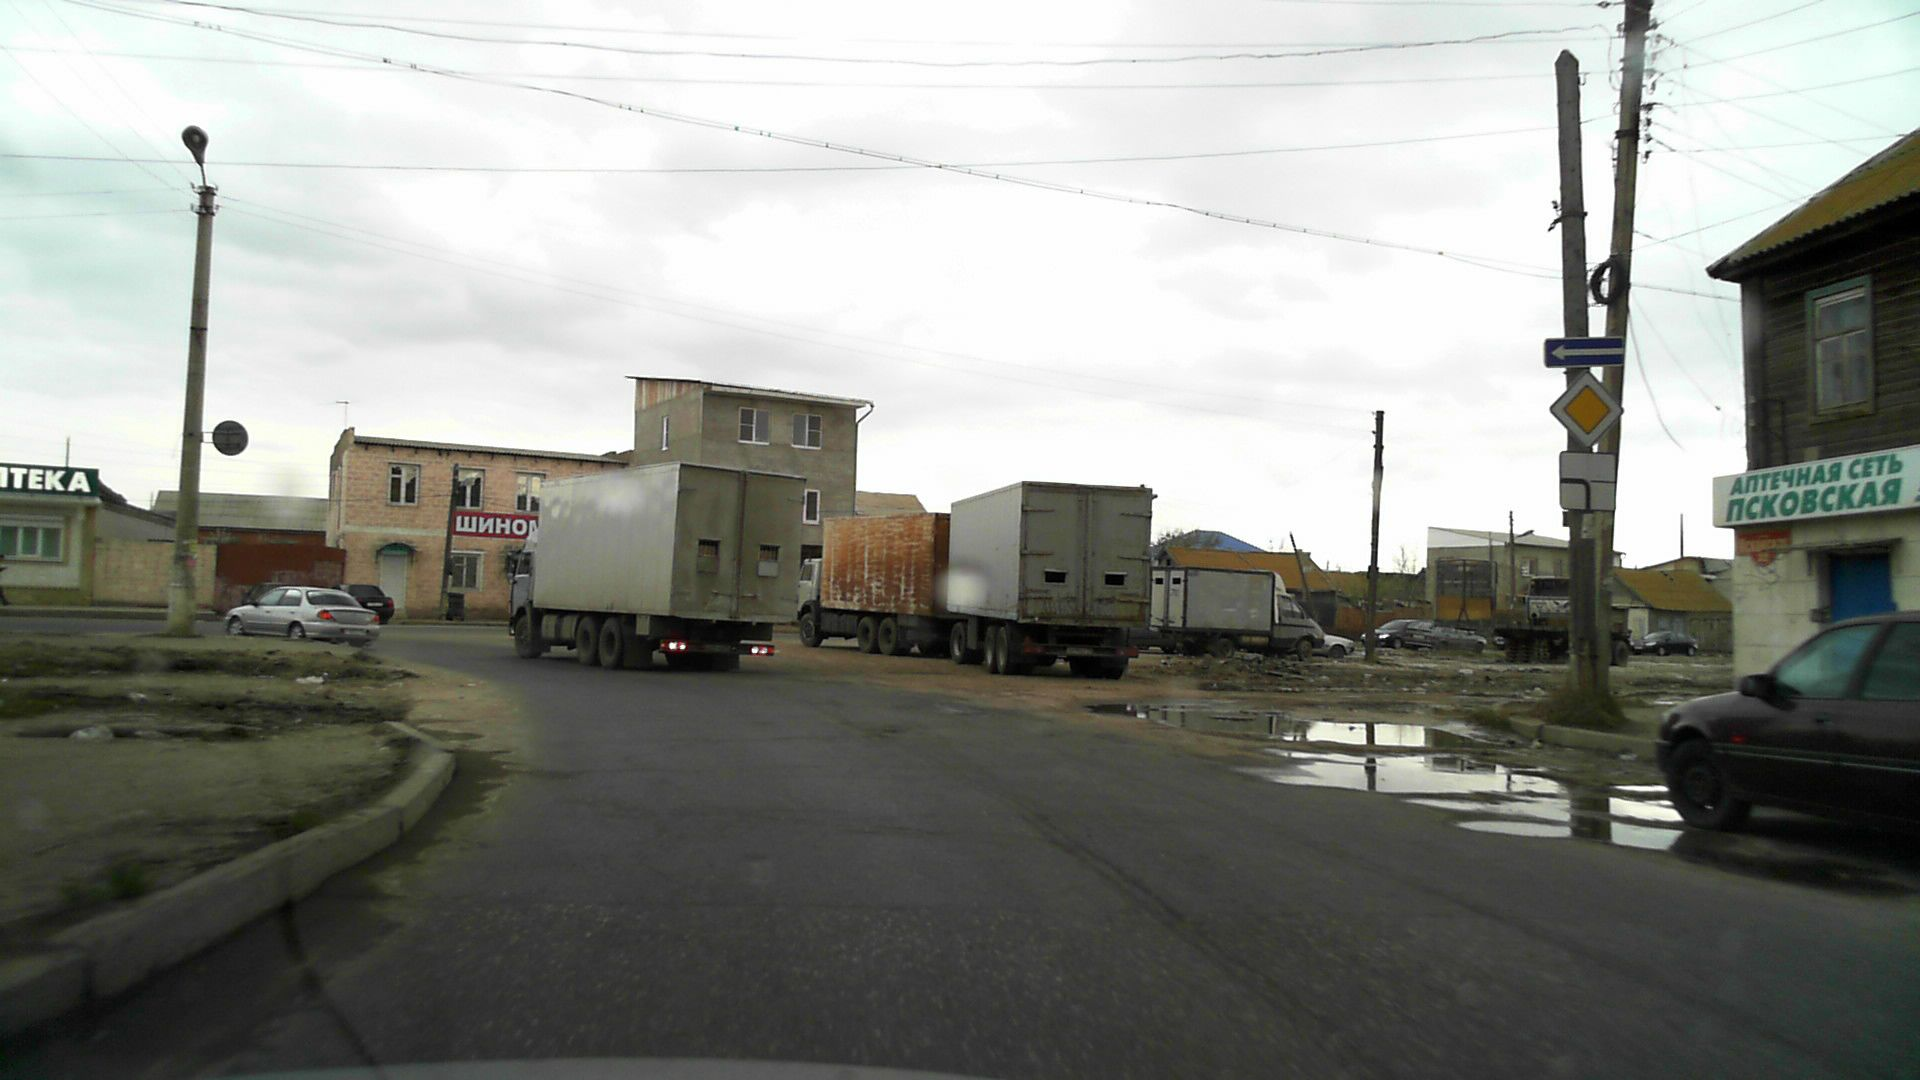One-Way Traffic: (1545, 338, 1625, 367)
